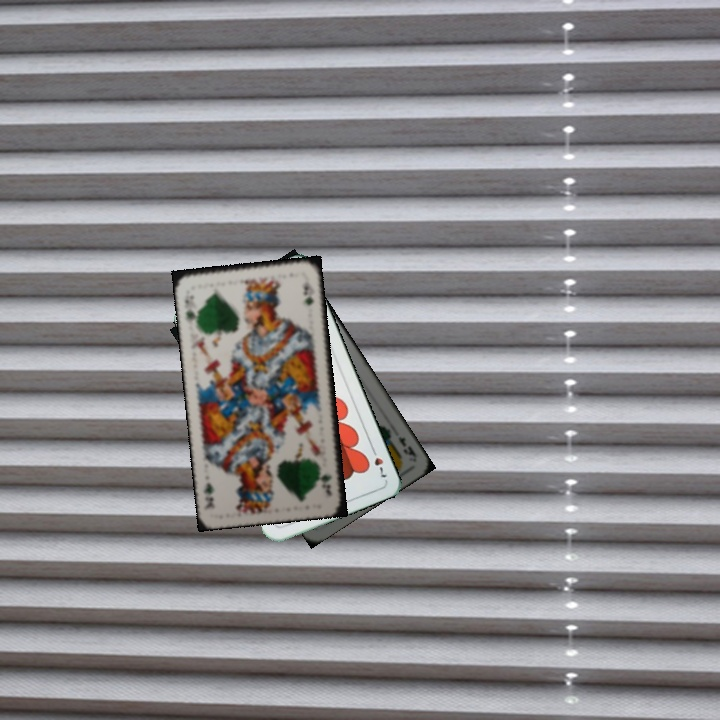EK: (394, 432, 419, 461)
GK: (180, 296, 200, 325), (318, 470, 335, 499)
H7: (367, 443, 390, 480)
